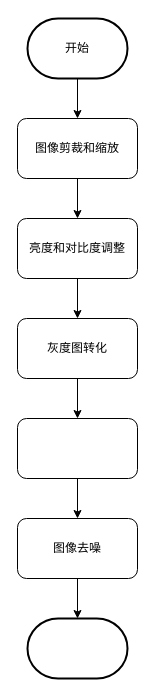
The diagram is 155 pixels wide and 696 high, and some of its shapes have lost their labels. Each missing label, with the centre of its shape:
"像素归一化" goes at pixel 77 448.
"结束" goes at pixel 77 648.
